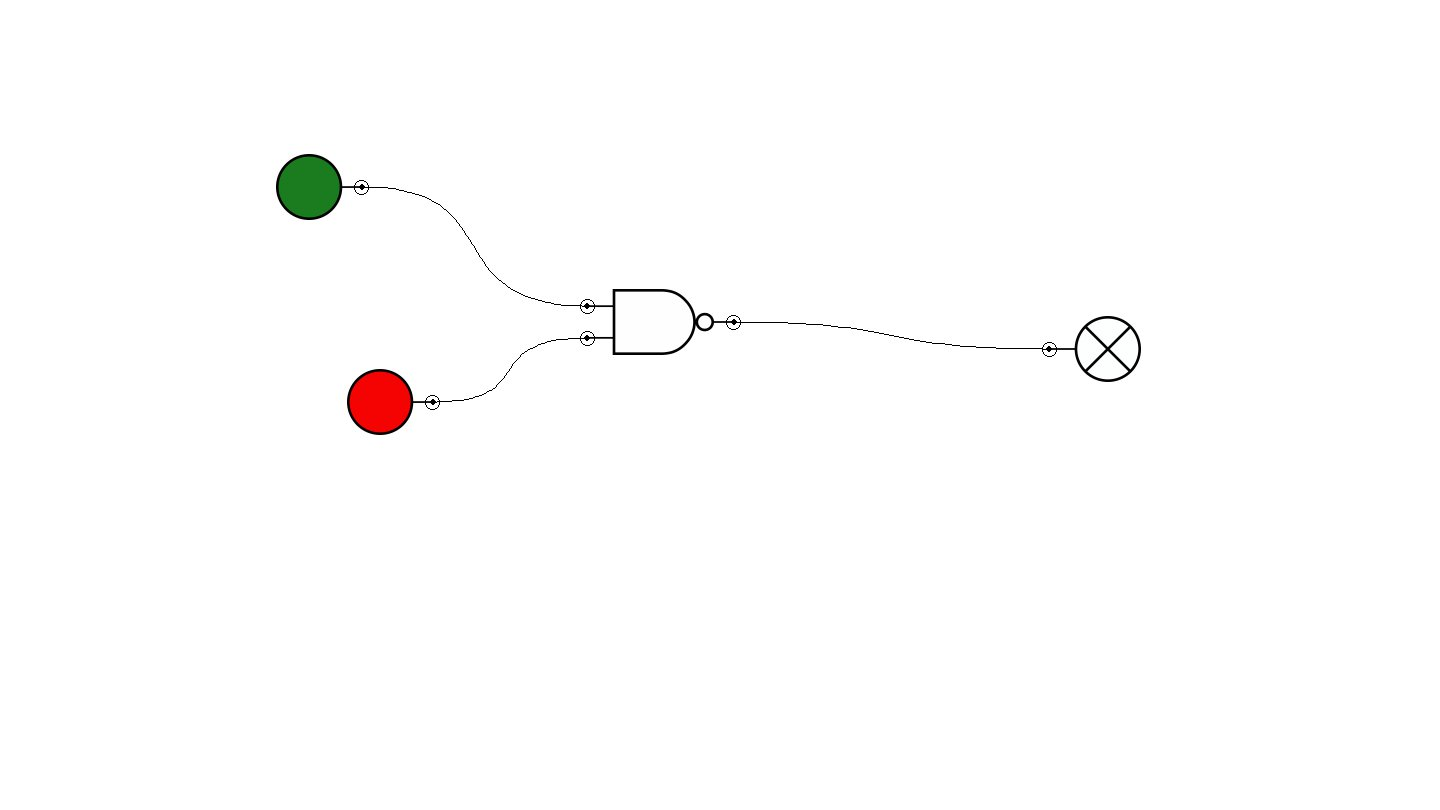bulb: (1042, 316, 1141, 382)
nand: (580, 289, 741, 355)
switch_False: (347, 369, 440, 435)
switch_True: (276, 154, 369, 220)
